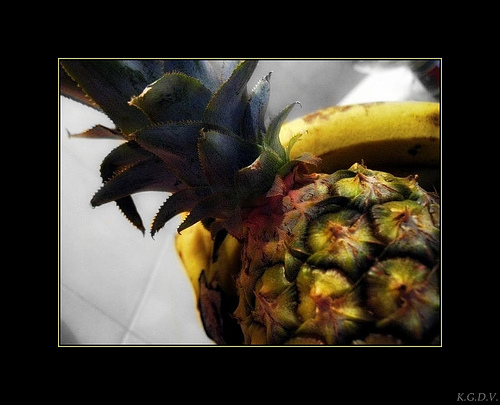pineapple: (59, 59, 443, 345)
